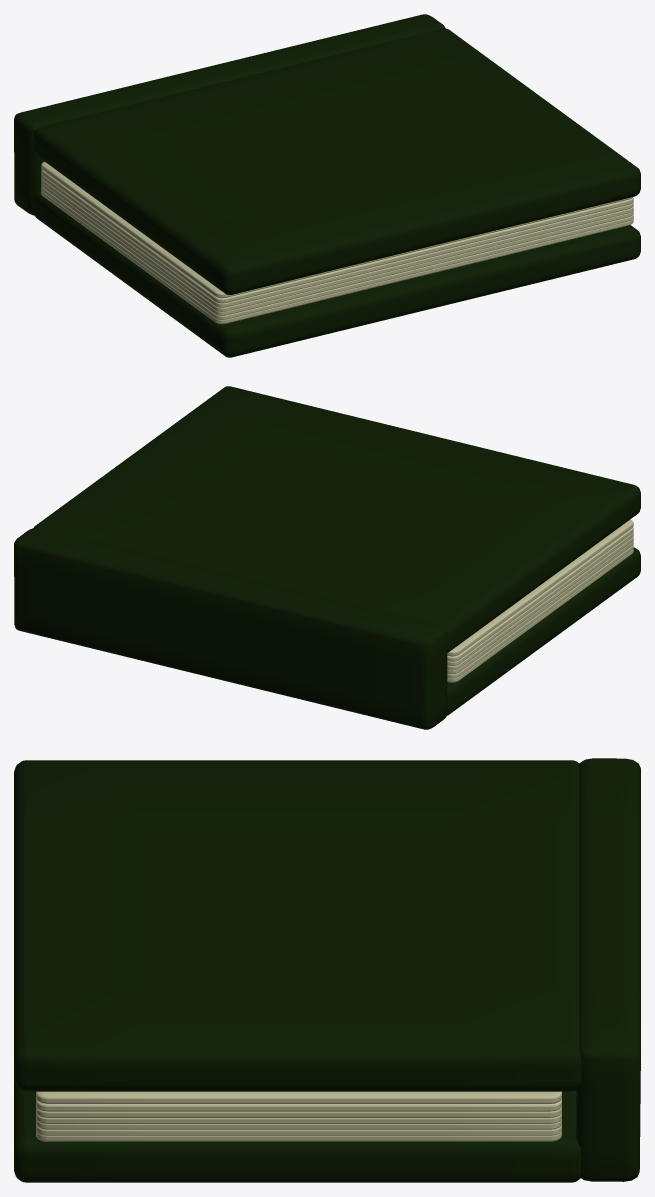
File: book1.FBX
3 renders of one model, top to bottom at view 1: azimuth 30°, elevation 25°; view 2: azimuth 150°, elevation 25°; view 3: azimuth 270°, elevation 25°, orthographic. The views are drawn at different scales.
Visible parts, largest first — view 1: ChamferBox003, ChamferBox002, ChamferBox001, ChamferBox008, ChamferBox009, ChamferBox006, ChamferBox005, ChamferBox010, ChamferBox004, ChamferBox007; view 2: ChamferBox003, ChamferBox001, ChamferBox002, ChamferBox010, ChamferBox008, ChamferBox009, ChamferBox006, ChamferBox005, ChamferBox004, ChamferBox007; view 3: ChamferBox003, ChamferBox001, ChamferBox002, ChamferBox010, ChamferBox008, ChamferBox009, ChamferBox005, ChamferBox004, ChamferBox006, ChamferBox007.
Part boxes in pixels (x1,y1,x2,y2): ChamferBox003: [34, 28, 640, 294]; ChamferBox002: [34, 190, 640, 357]; ChamferBox001: [14, 14, 445, 215]; ChamferBox008: [41, 169, 633, 303]; ChamferBox009: [41, 174, 633, 307]; ChamferBox006: [41, 178, 633, 311]; ChamferBox005: [41, 186, 633, 319]; ChamferBox010: [41, 161, 632, 298]; ChamferBox004: [41, 191, 633, 324]; ChamferBox007: [41, 182, 633, 315]; ChamferBox003: [34, 386, 640, 652]; ChamferBox001: [14, 528, 447, 729]; ChamferBox002: [447, 547, 640, 715]; ChamferBox010: [447, 519, 633, 656]; ChamferBox008: [447, 527, 633, 661]; ChamferBox009: [447, 532, 633, 665]; ChamferBox006: [447, 536, 633, 670]; ChamferBox005: [447, 544, 633, 678]; ChamferBox004: [447, 548, 633, 682]; ChamferBox007: [447, 540, 633, 674]; ChamferBox003: [14, 760, 581, 1091]; ChamferBox001: [576, 758, 640, 1181]; ChamferBox002: [14, 1080, 581, 1182]; ChamferBox010: [36, 1091, 561, 1103]; ChamferBox008: [36, 1099, 561, 1111]; ChamferBox009: [36, 1106, 561, 1117]; ChamferBox005: [36, 1125, 561, 1135]; ChamferBox004: [36, 1131, 561, 1141]; ChamferBox006: [36, 1113, 561, 1123]; ChamferBox007: [36, 1119, 561, 1129].
Size of the model in its own units: 22.06 by 4.68 by 19.68.
